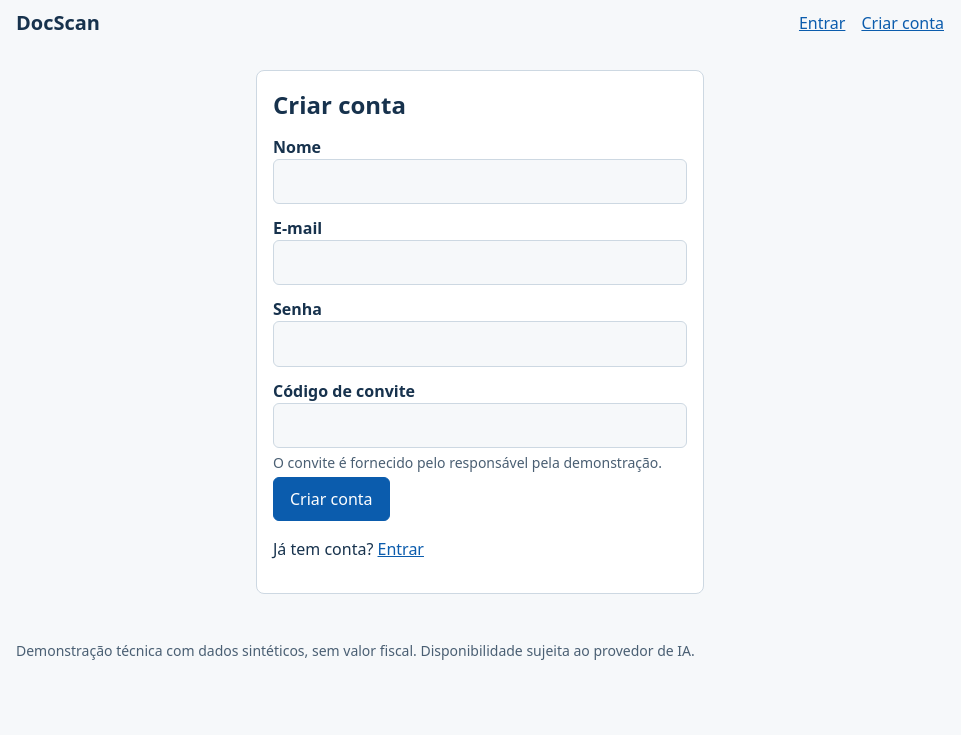
Test: acesso › cadastro com convite válido cria a conta e entra; convite inválido mostra recusa genérica
This screenshot has width=961, height=735.
Type "Visitante Demo" into the field labelled "Nome" at point(480, 182), box x1=273 y1=159 x2=687 y2=204
Type "visitante@example.test" into the field labelled "E-mail" at point(480, 263), box x1=273 y1=240 x2=687 y2=285
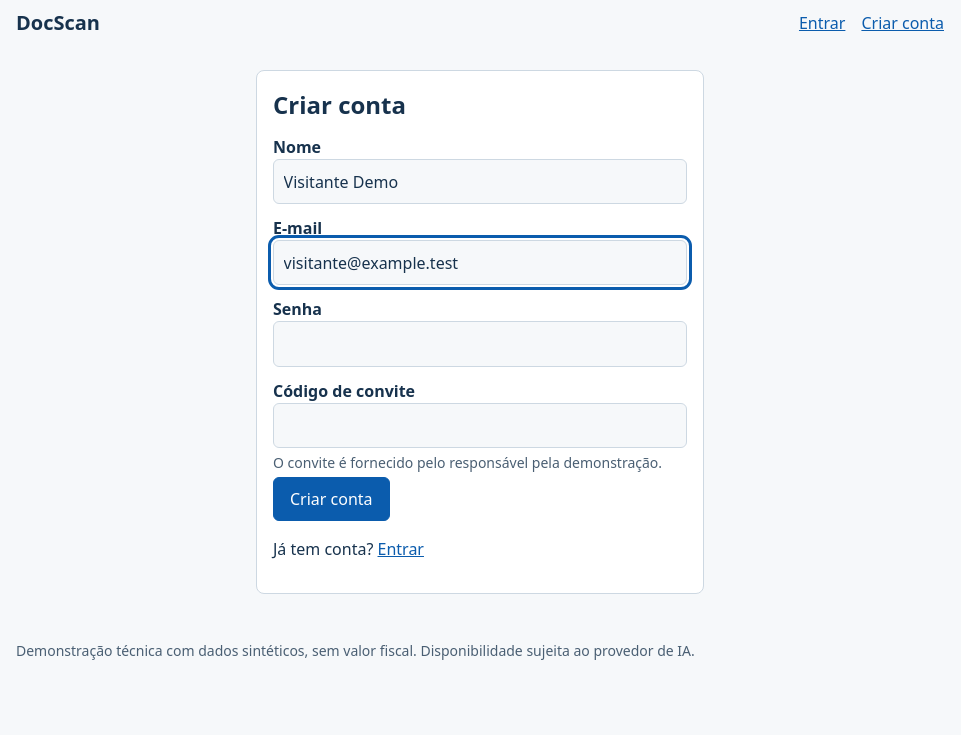
Type "senha-correta-123" into the password field labelled "Senha" at point(480, 344), box x1=273 y1=321 x2=687 y2=367
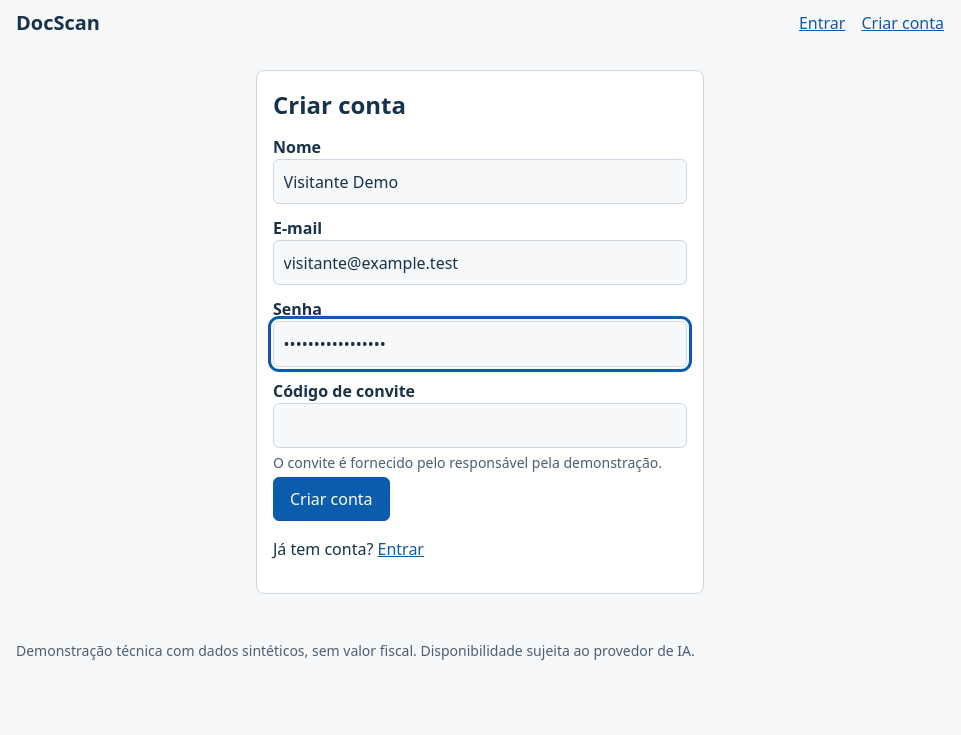
Type "errado" into the field labelled "Código de convite" at point(480, 425), box x1=273 y1=403 x2=687 y2=448
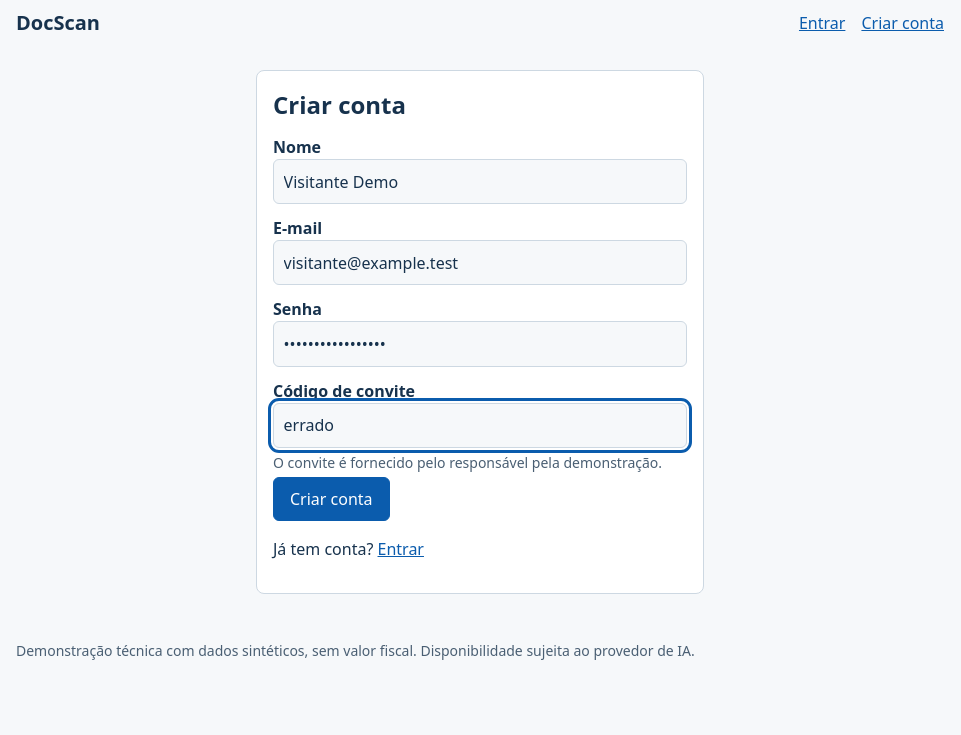
Click the button "Criar conta" at point(331, 499), box x1=273 y1=477 x2=390 y2=521
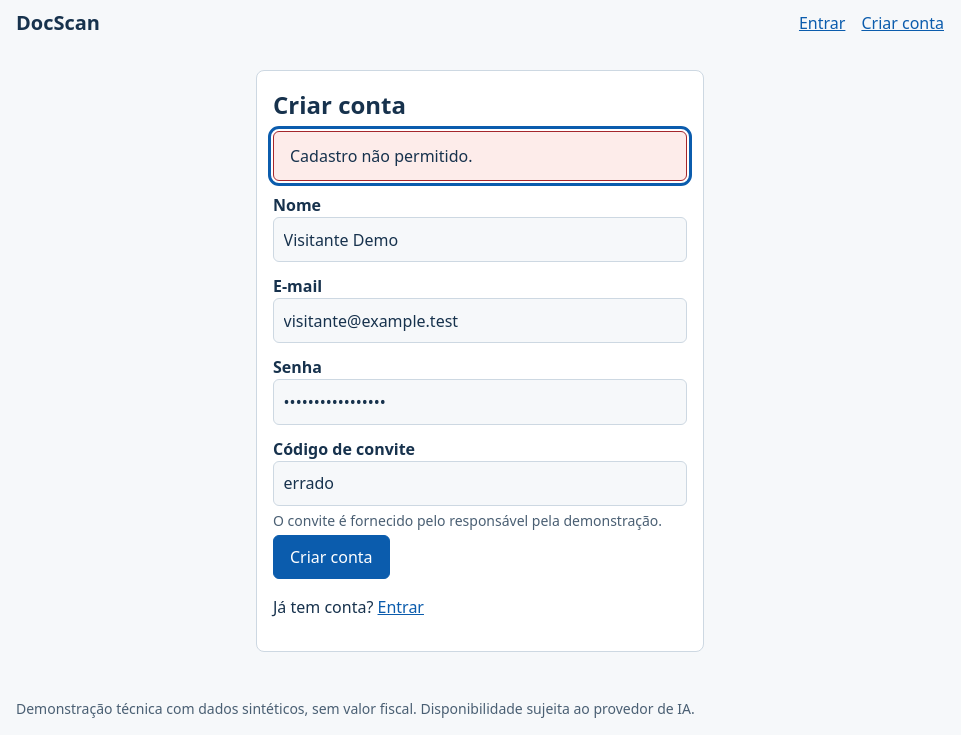
expect the message reads "Cadastro não permitido.": met, box x1=290 y1=145 x2=472 y2=167
Replace the text in the field labelled "Código de convite" with "convite-valido" at point(480, 483), box x1=273 y1=461 x2=687 y2=506
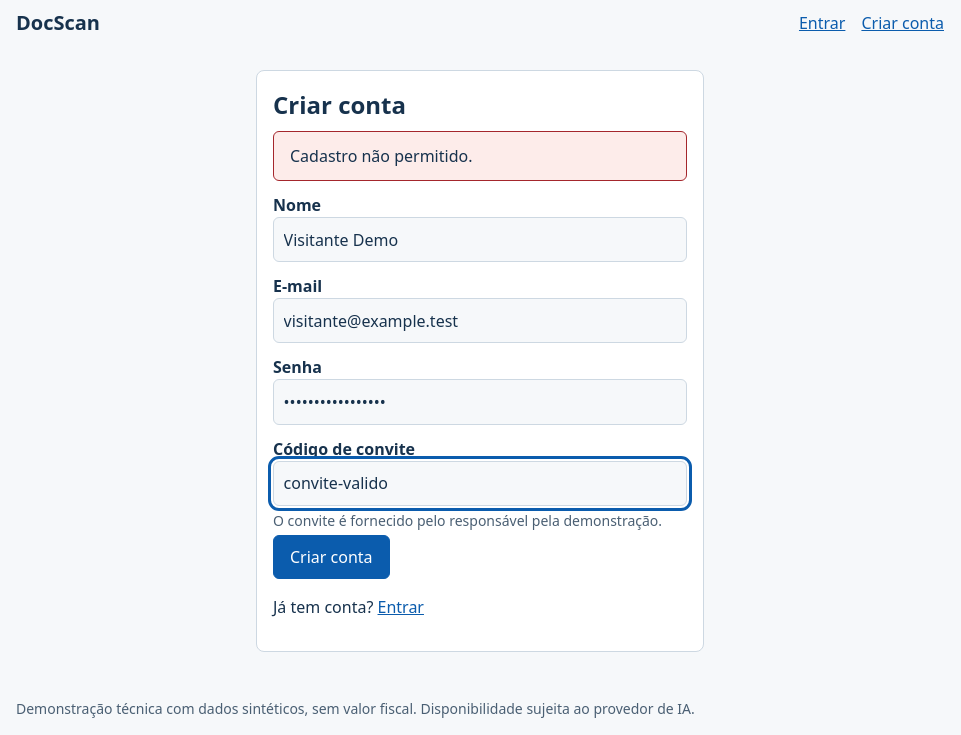
Click the button "Criar conta" at point(331, 557), box x1=273 y1=535 x2=390 y2=579
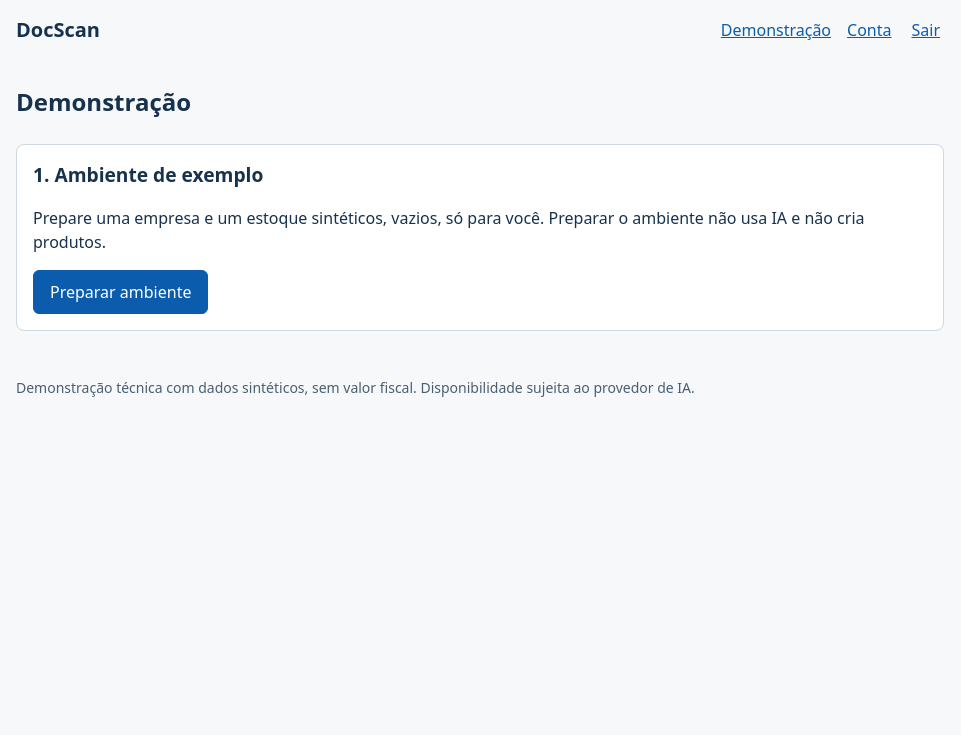
expect the heading "Demonstração" is shown: met, box x1=16 y1=85 x2=191 y2=118
